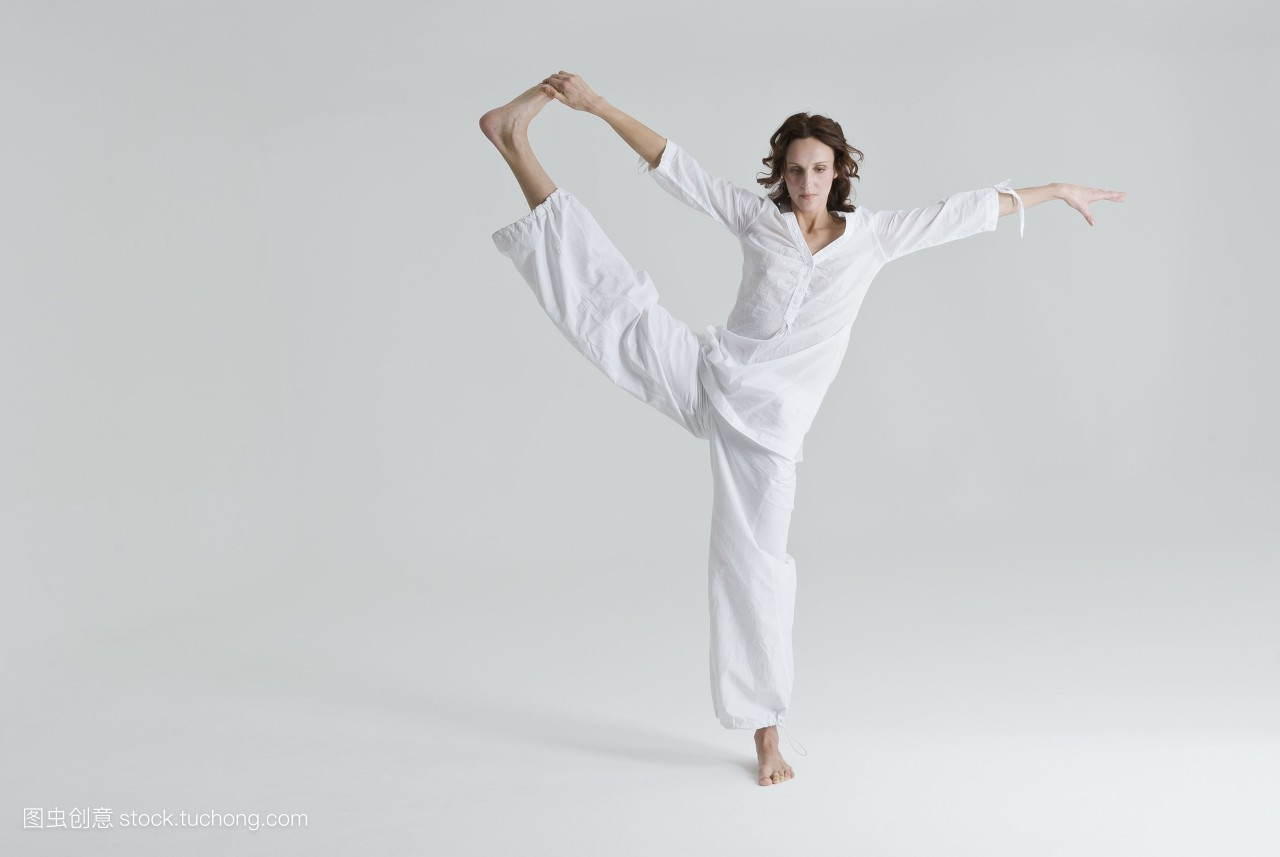handsup: (451, 46, 1123, 789)
